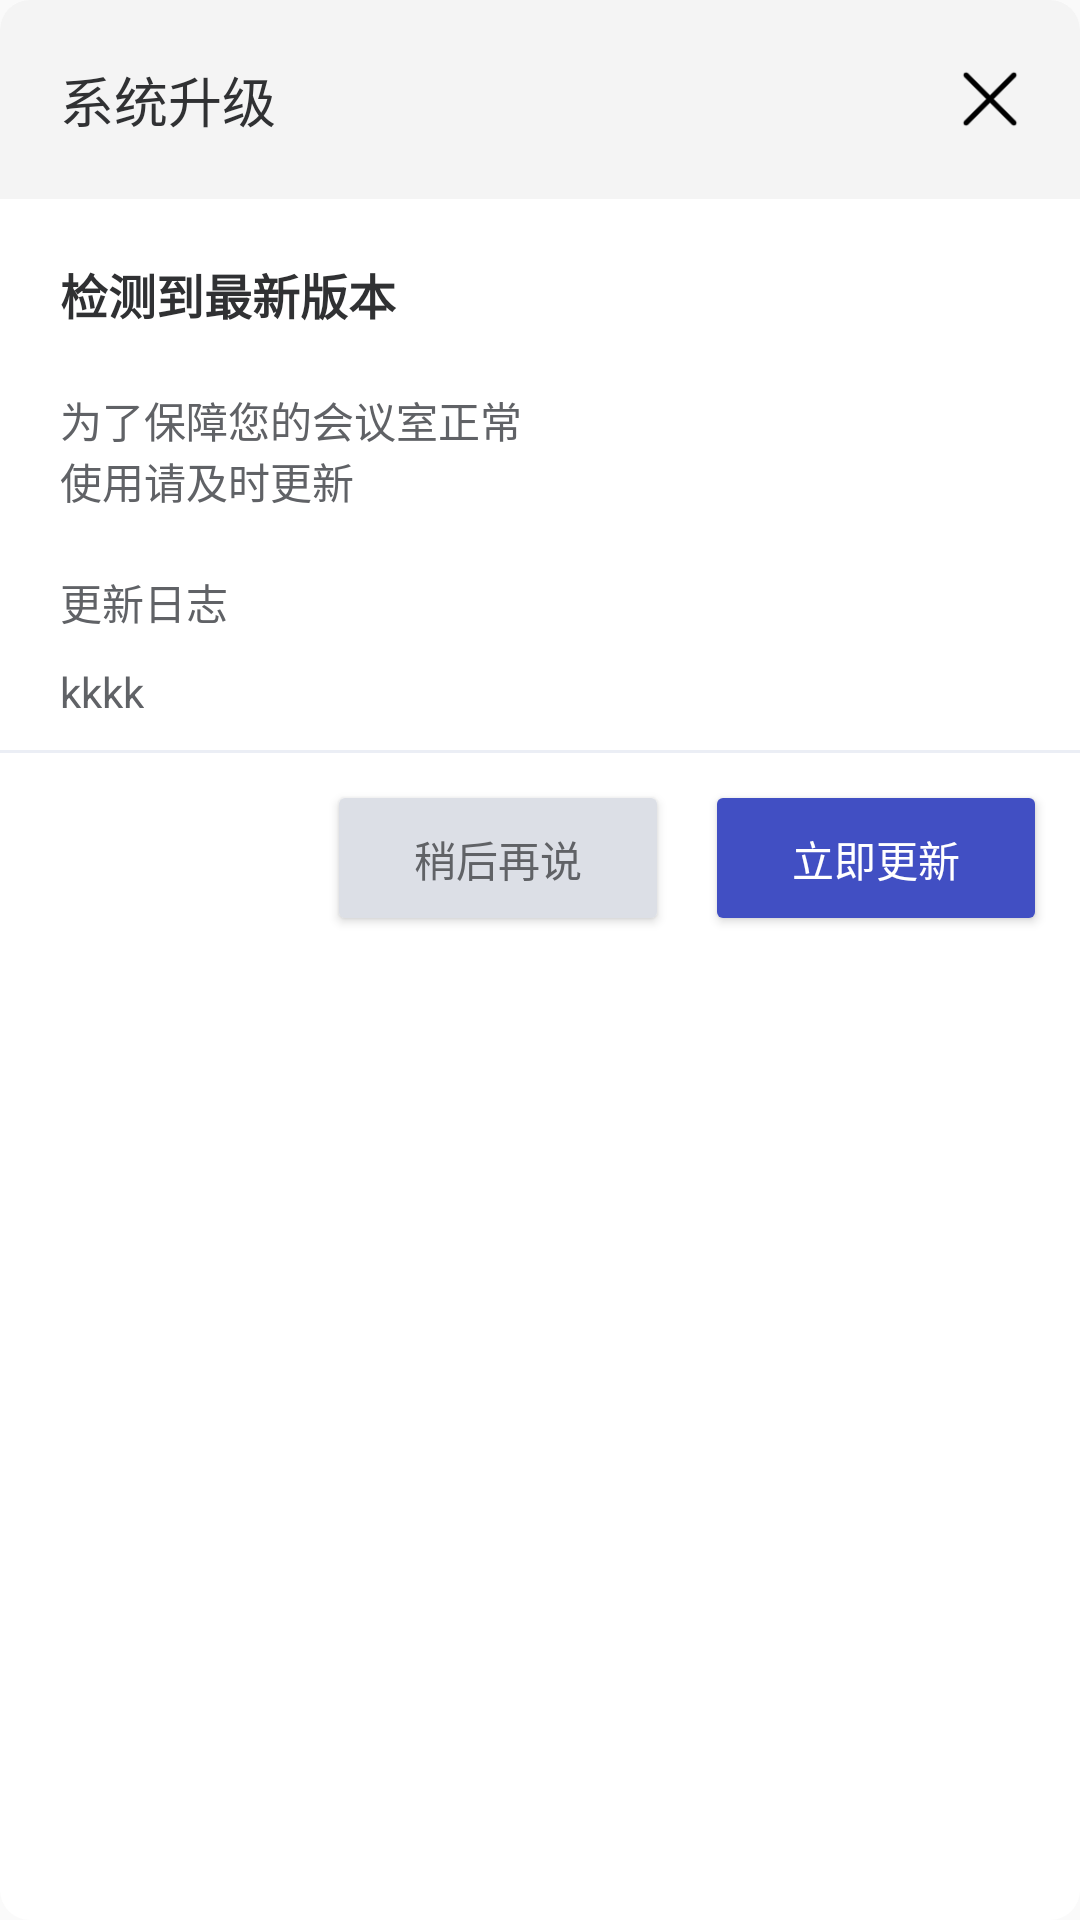

Screen size 1080 x 1920. Icon name, then its center in pixels as [x,y]:
cancel: [990,99]
